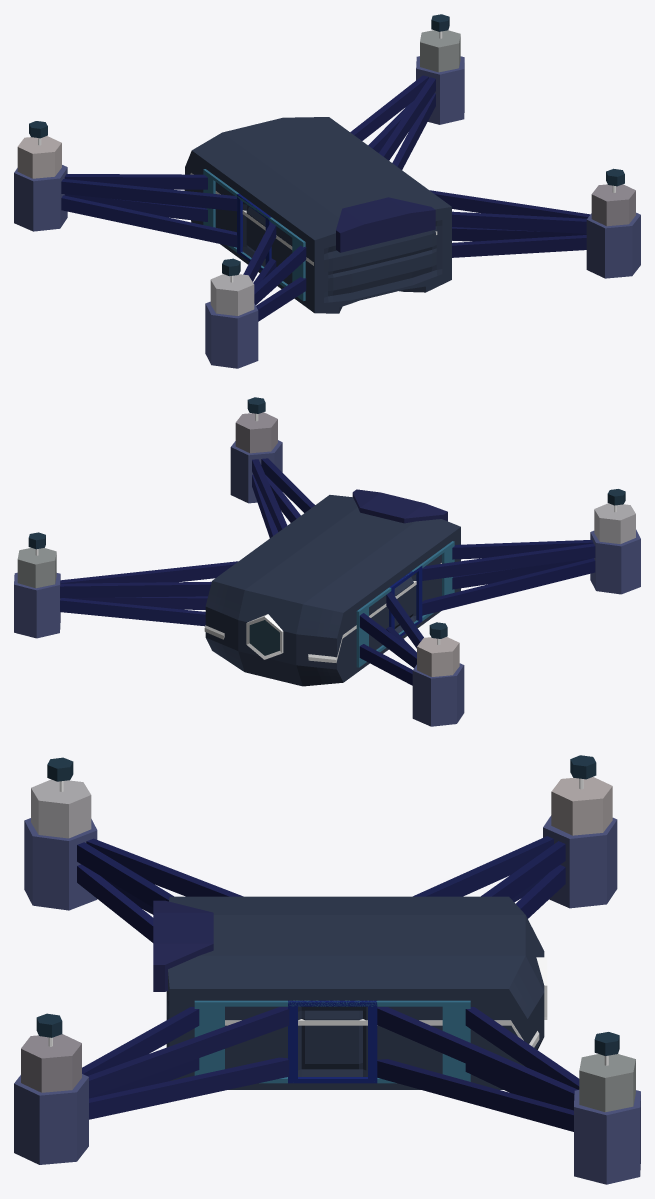
Rendered from body_03_blue.d0277abc.glb.
3 views of the same model, one above another, from view 1: azimuth 30°, elevation 25°; view 2: azimuth 150°, elevation 25°; view 3: azimuth 270°, elevation 25° (orthographic). The views are drawn at different scales.
Visible parts, largest first — view 1: Cube.001_2.001, Cubo_3.001, Cilindro.004_25.001, Cilindro.003_23.001, Cubo.003_9.001, Cubo.004_8.001, Cilindro.002_22.001, Cubo.008_10.001, Cubo.007_11.001, Cilindro.005_24.001, Cubo.005_13.001, Cubo.001_6.001 (+14 smaller); view 2: Cube.001_2.001, Cilindro.002_22.001, Cubo.010_20.001, Cubo.009_21.001, Cilindro.003_23.001, Cilindro.005_24.001, Cubo.013_17.001, Cubo.014_16.001, Cubo_3.001, Cubo.016_14.001, Cilindro.004_25.001, Cilindro.006_26.001 (+18 smaller); view 3: Cube.001_2.001, Cilindro.004_25.001, Cilindro.005_24.001, Cubo.016_14.001, Cubo.005_13.001, Cilindro.003_23.001, Cilindro.002_22.001, Cubo.006_12.001, Cubo.015_15.001, Cubo.018_47.001, Cubo_3.001, Cilindro.017_41.001 (+15 smaller).
Boxes of the visible parts, <box> form: Cube.001_2.001: <box>185,117,451,313</box>; Cubo_3.001: <box>336,197,435,252</box>; Cilindro.004_25.001: <box>586,212,640,278</box>; Cilindro.003_23.001: <box>205,301,258,368</box>; Cubo.003_9.001: <box>61,195,237,247</box>; Cubo.004_8.001: <box>61,179,237,211</box>; Cilindro.002_22.001: <box>14,165,67,231</box>; Cubo.008_10.001: <box>452,211,586,233</box>; Cubo.007_11.001: <box>452,235,586,257</box>; Cilindro.005_24.001: <box>416,56,464,124</box>; Cubo.005_13.001: <box>430,190,590,218</box>; Cubo.001_6.001: <box>64,174,207,189</box>; Cube.001_2.001: <box>205,495,460,686</box>; Cilindro.002_22.001: <box>412,663,464,726</box>; Cubo.010_20.001: <box>422,558,595,615</box>; Cubo.009_21.001: <box>422,543,595,580</box>; Cilindro.003_23.001: <box>590,529,640,594</box>; Cilindro.005_24.001: <box>14,572,60,638</box>; Cubo.013_17.001: <box>60,581,211,598</box>; Cubo.014_16.001: <box>60,598,205,626</box>; Cubo_3.001: <box>352,489,447,523</box>; Cubo.016_14.001: <box>60,561,238,583</box>; Cilindro.004_25.001: <box>230,440,282,503</box>; Cilindro.006_26.001: <box>235,412,277,453</box>; Cube.001_2.001: <box>166,896,544,1089</box>; Cilindro.004_25.001: <box>14,1074,88,1164</box>; Cilindro.005_24.001: <box>574,1090,640,1184</box>; Cubo.016_14.001: <box>377,1007,577,1110</box>; Cubo.005_13.001: <box>87,1007,289,1097</box>; Cilindro.003_23.001: <box>24,818,97,910</box>; Cilindro.002_22.001: <box>543,815,617,908</box>; Cubo.006_12.001: <box>89,1057,289,1119</box>; Cubo.015_15.001: <box>377,1059,573,1131</box>; Cubo.018_47.001: <box>194,1000,470,1083</box>; Cubo_3.001: <box>153,900,213,991</box>; Cilindro.017_41.001: <box>551,777,612,835</box>.
Size of the model in its own units: 3.2 by 0.7904 by 2.76.
